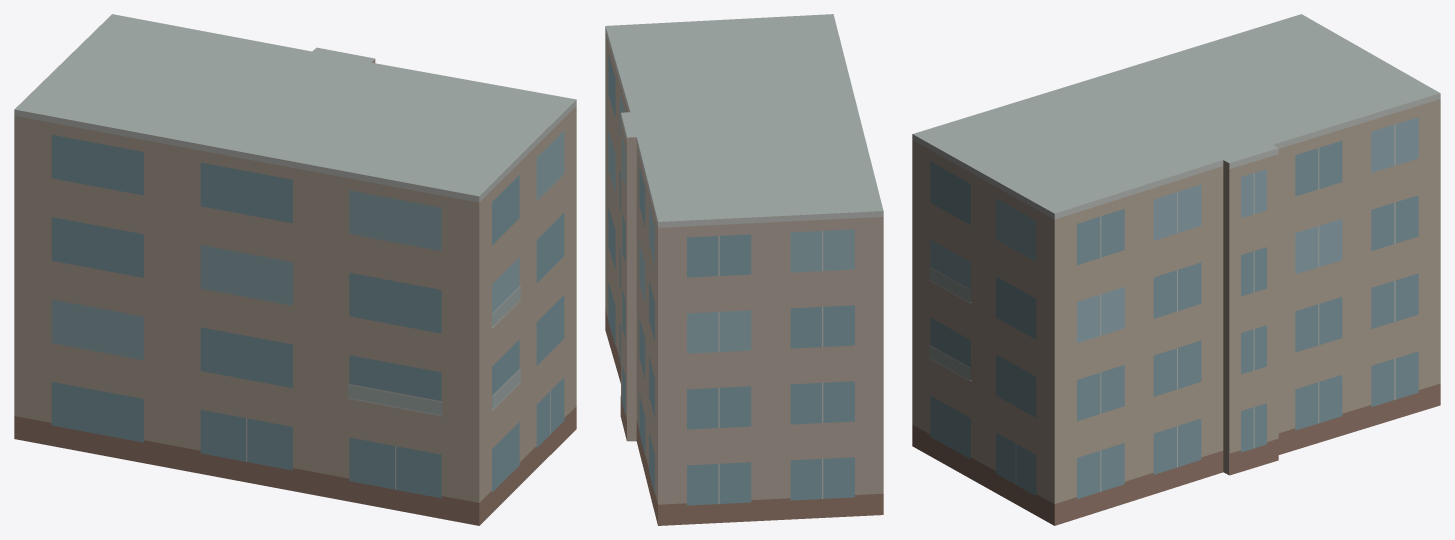
The model's file is survey-upis-32916158.glb.
3 views of the same model, side by side, from view 1: azimuth 30°, elevation 25°; view 2: azimuth 150°, elevation 25°; view 3: azimuth 270°, elevation 25° (orthographic). The views are drawn at different scales.
Parts seen in each view (by area): view 1: survey-upis-32916158.tmp; view 2: survey-upis-32916158.tmp; view 3: survey-upis-32916158.tmp.
Part boxes in pixels (x1=…): survey-upis-32916158.tmp: x1=14, y1=14, x2=576, y2=525; survey-upis-32916158.tmp: x1=605, y1=14, x2=883, y2=525; survey-upis-32916158.tmp: x1=912, y1=14, x2=1440, y2=525.
Size of the model in its own units: 17.57 by 12.8 by 19.63.
